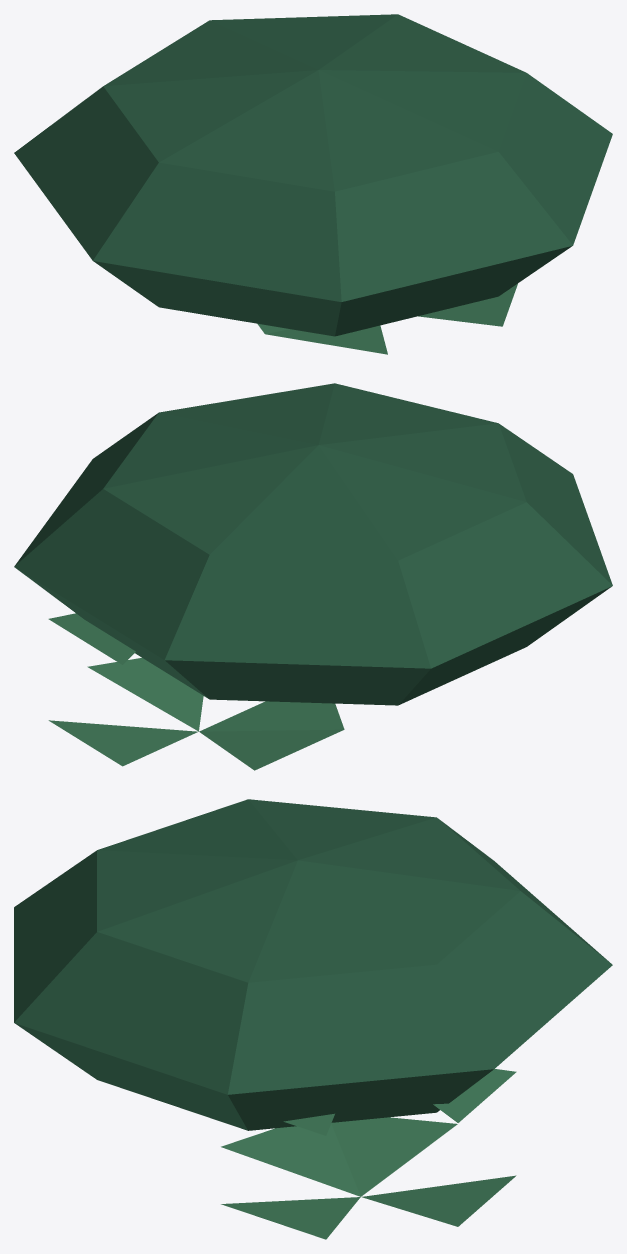
File: nature_pine_b_lod1.glb
3 renders of one model, top to bottom at view 1: azimuth 30°, elevation 25°; view 2: azimuth 150°, elevation 25°; view 3: azimuth 270°, elevation 25°, orthographic. The views are drawn at different scales.
Parts seen in each view (by area): view 1: nature_pine_b_lod1; view 2: nature_pine_b_lod1; view 3: nature_pine_b_lod1.
Part boxes in pixels (x1,y1,x2,y2): nature_pine_b_lod1: (14, 14, 612, 354); nature_pine_b_lod1: (14, 383, 612, 770); nature_pine_b_lod1: (14, 799, 612, 1239).
Bounding box in the file's own units: 2.92 × 1.54 × 2.85.
